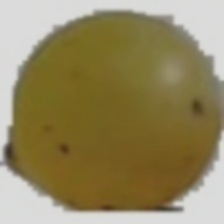grapes: (23, 56, 224, 190)
